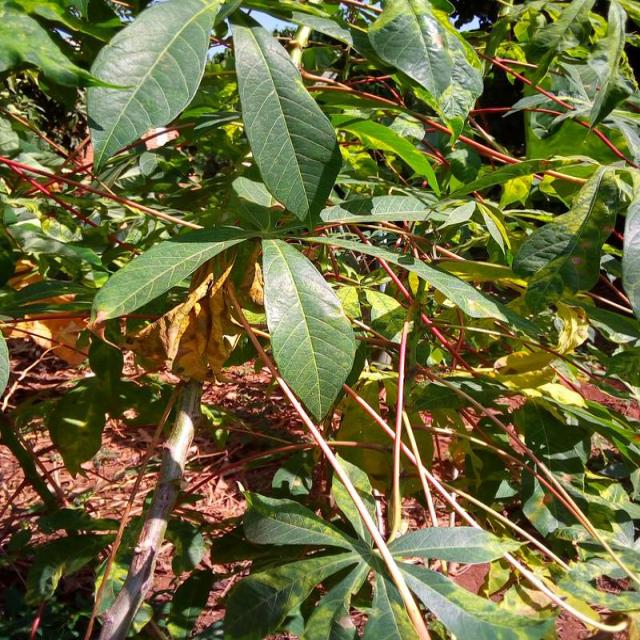cassava leaf: (85, 0, 221, 187), (228, 19, 342, 230), (259, 236, 356, 424), (366, 0, 484, 143)
